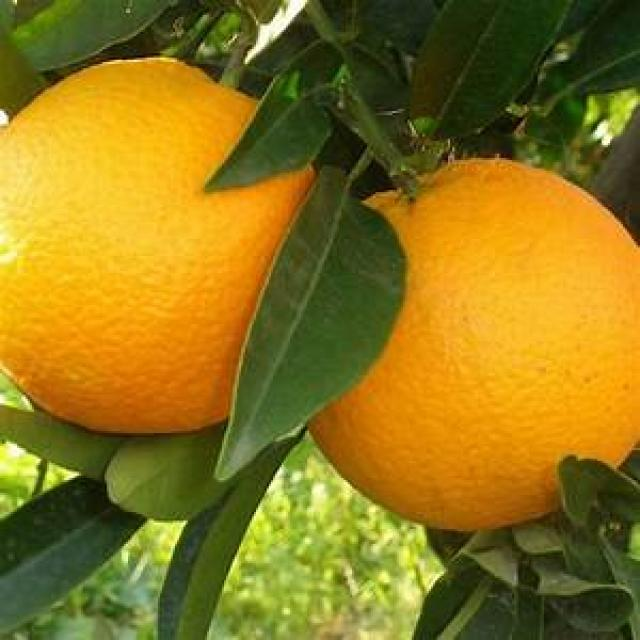orange: (0, 56, 325, 437), (330, 158, 640, 529)
